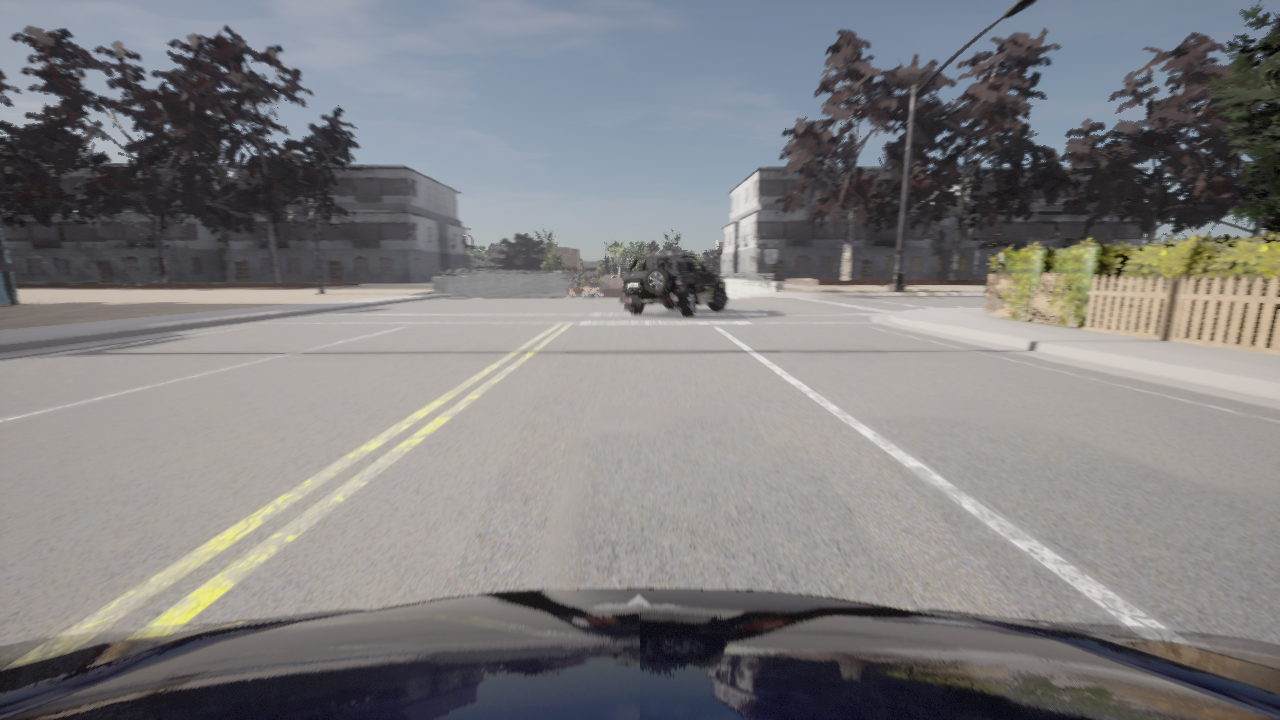cyclist: (0, 588, 1279, 719), (620, 251, 726, 315)
